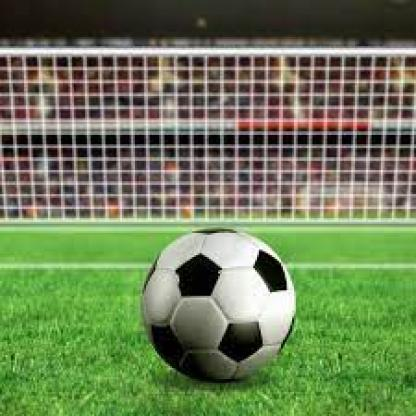ball: (140, 228, 298, 384)
